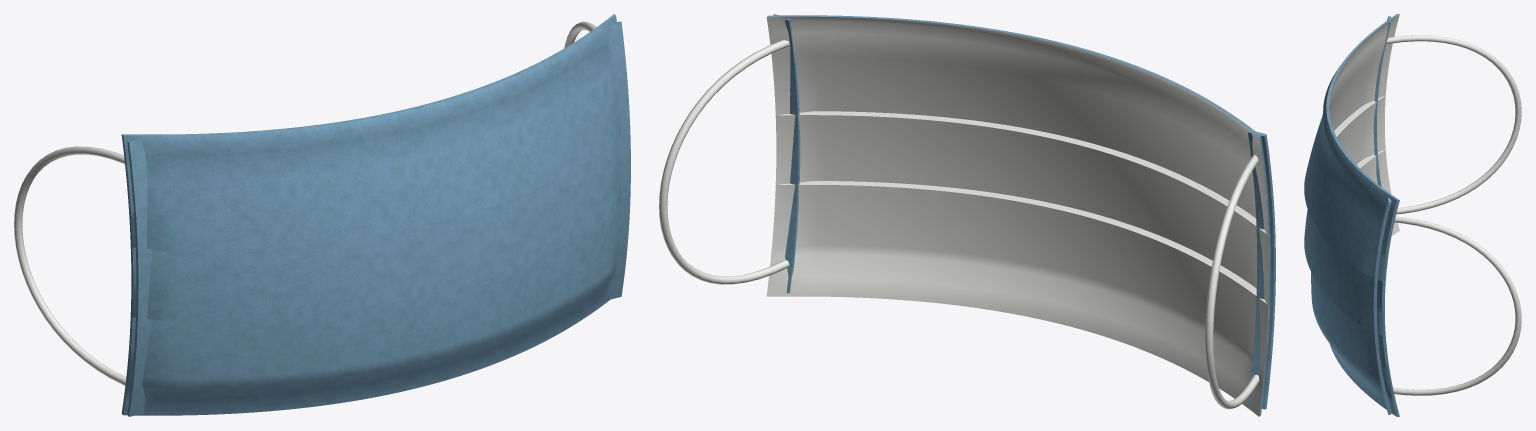
File: facemask.glb
3 views of the same model, side by side, from view 1: azimuth 30°, elevation 25°; view 2: azimuth 150°, elevation 25°; view 3: azimuth 270°, elevation 25° (orthographic). The views are drawn at different scales.
Visible parts, largest first — view 1: facemask; view 2: facemask; view 3: facemask.
Boxes of the visible parts, x1,y1,x2,y2 form: facemask: (14,14,630,416); facemask: (659,14,1275,416); facemask: (1304,14,1521,416).
Bounding box in the file's own units: 0.1965 × 0.095 × 0.0864.
2 materials, 1 textured.
